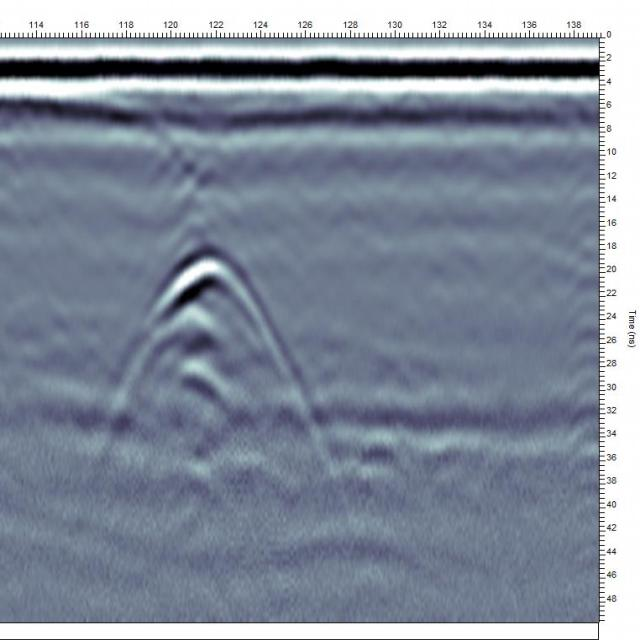hyperbola: (98, 226, 323, 464)
